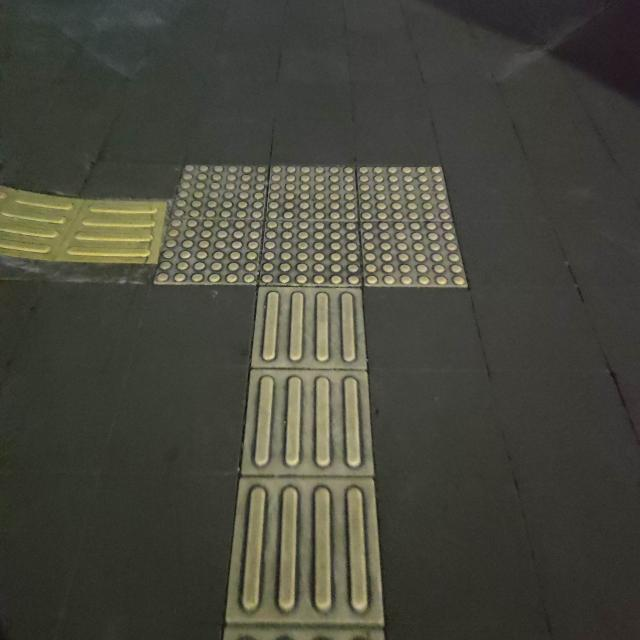kiri: (31, 144, 390, 359)
